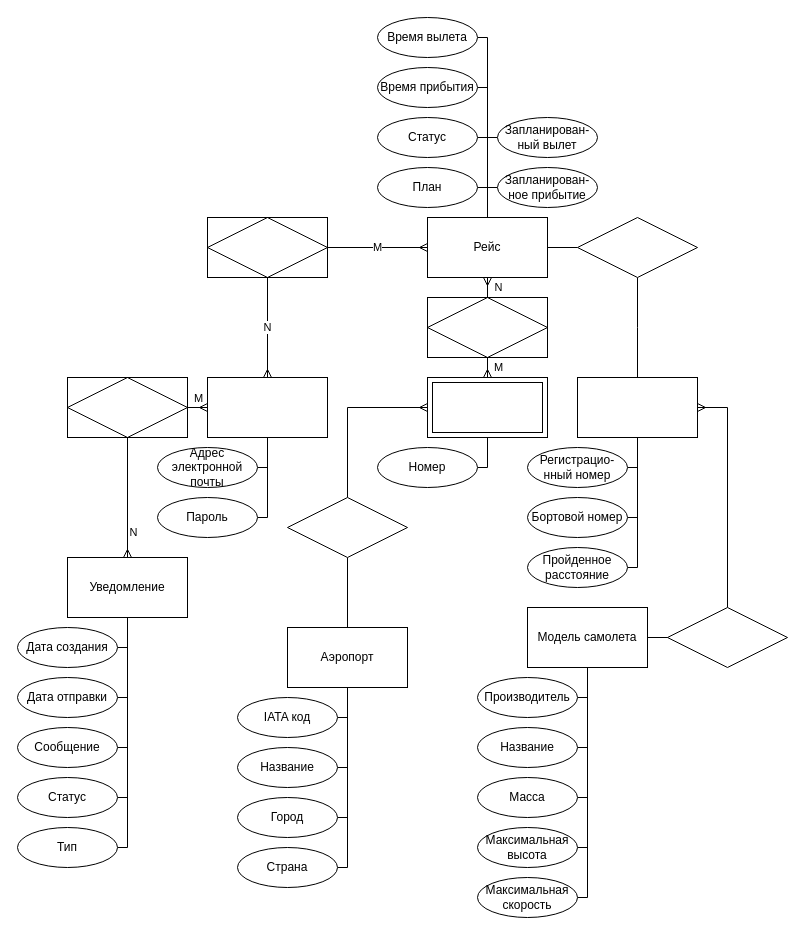
The diagram is 805 pixels wide and 935 high, and some of its shapes have lost their labels. Here are the shapes that lost their labels. From the top down, the centre of each, then its label:
[267,247]: Подписка
[637,247]: Обслуживает
[487,327]: Маршрут
[127,407]: Получает
[267,407]: Пользователь
[487,407]: Выход на посадку
[637,407]: Самолет
[347,527]: Имеет
[727,637]: Происходит
